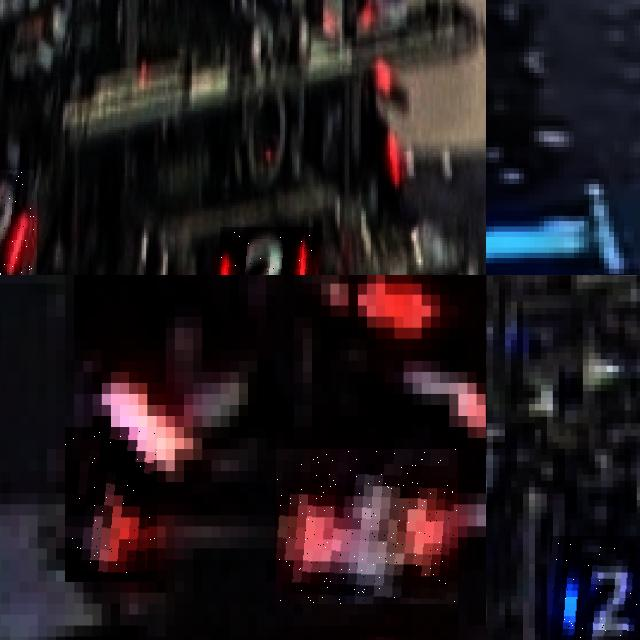B2: (549, 535, 640, 640)
R2: (220, 227, 315, 275), (0, 170, 36, 275)
R4: (276, 449, 458, 604), (65, 427, 157, 582)
